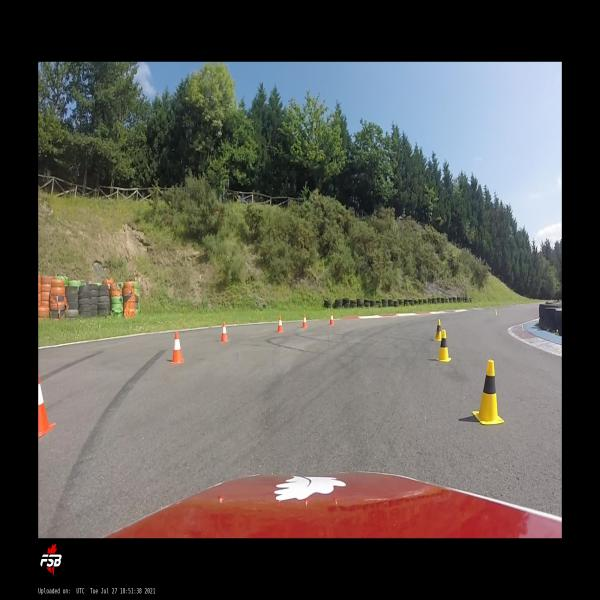orange_cone: (38, 369, 56, 439), (171, 331, 185, 364), (220, 322, 230, 342), (277, 316, 284, 333), (301, 314, 308, 328), (329, 312, 334, 326)
yellow_cone: (471, 360, 505, 425), (436, 329, 452, 362), (434, 319, 442, 341), (494, 308, 498, 315)
